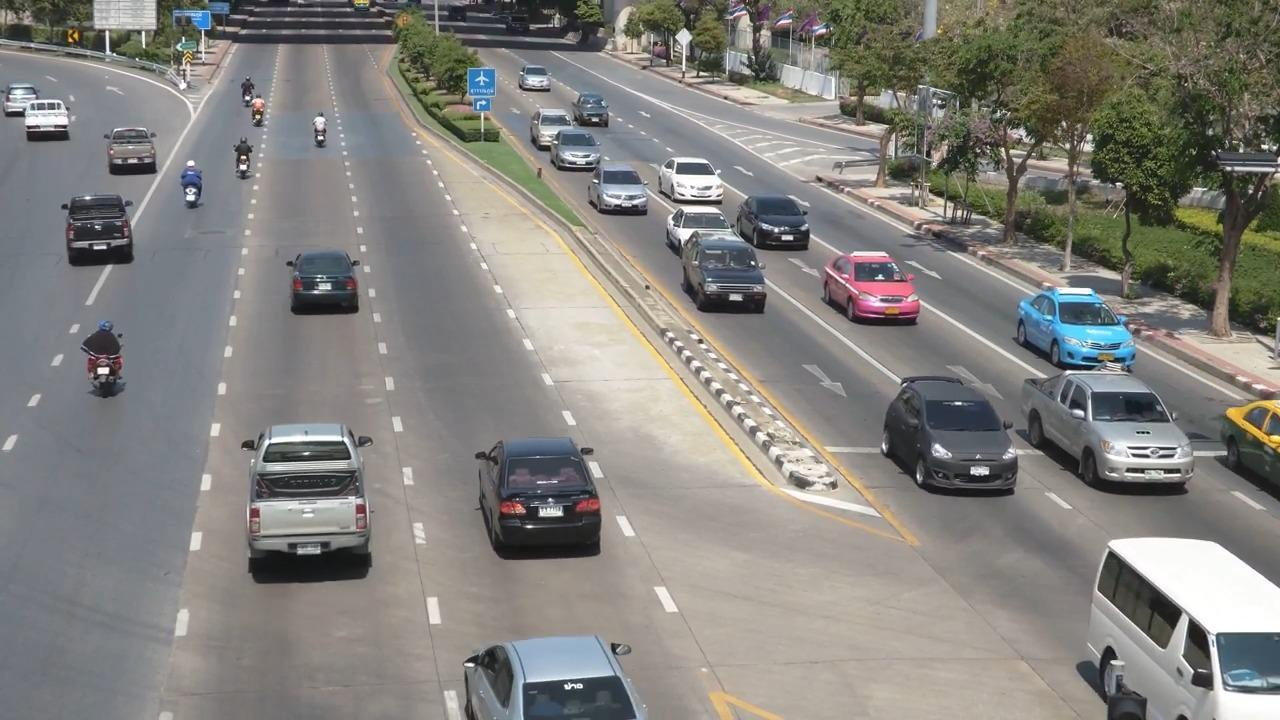CAR: (1065, 515, 1280, 720), (226, 417, 388, 595), (1013, 355, 1207, 503), (449, 613, 666, 720), (874, 370, 1033, 510), (471, 428, 611, 575), (1011, 281, 1146, 377), (277, 231, 384, 344), (823, 238, 941, 340), (53, 180, 151, 273), (677, 234, 773, 320), (739, 193, 826, 261), (96, 124, 174, 190), (655, 195, 729, 254), (656, 149, 731, 207), (587, 152, 654, 216), (18, 90, 81, 154), (550, 128, 604, 177), (524, 101, 577, 148), (562, 87, 615, 130), (509, 62, 548, 94)
MOTOR: (64, 306, 133, 412), (215, 132, 264, 201), (164, 154, 212, 216), (302, 104, 339, 166), (241, 90, 278, 140), (229, 69, 263, 115)
